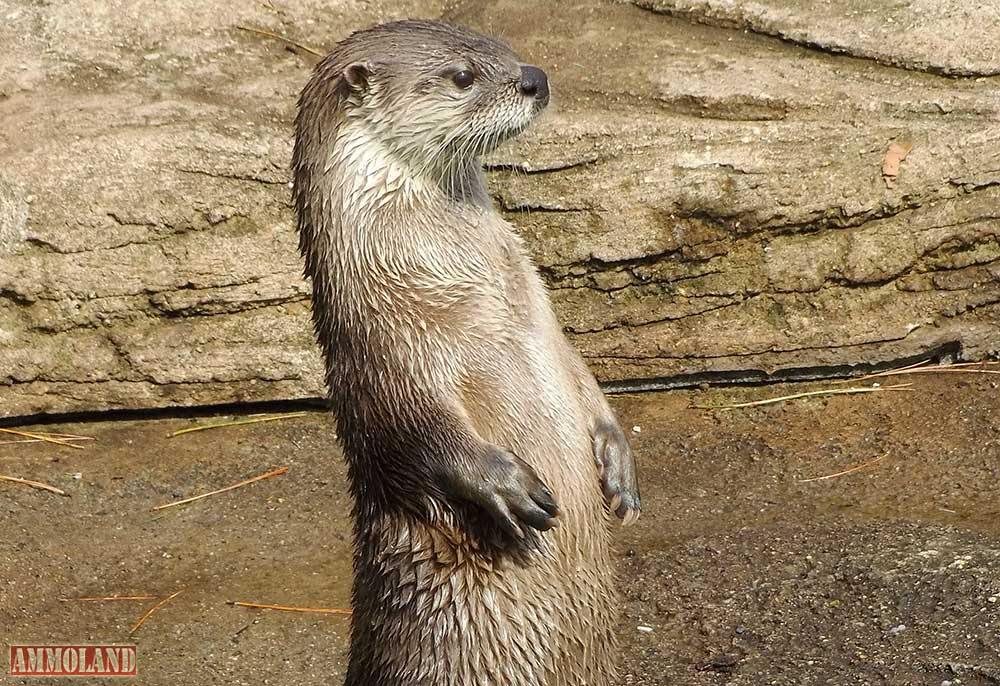otter: (288, 12, 669, 686)
